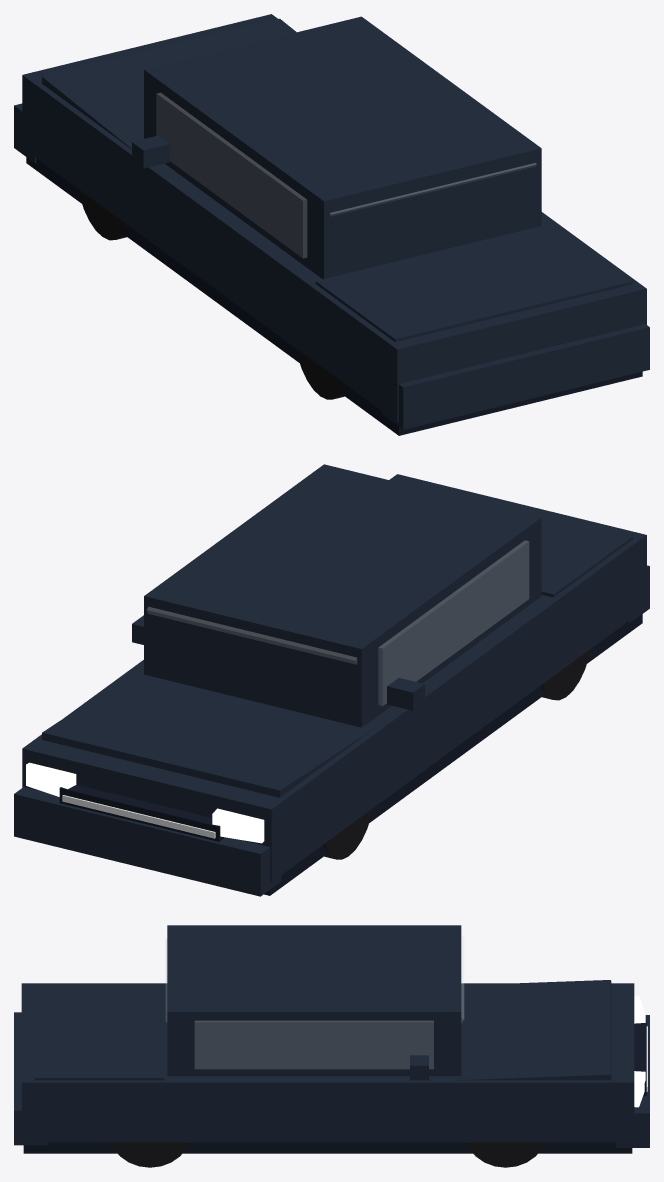
File: gentra.glb
3 views of the same model, one above another, from view 1: azimuth 30°, elevation 25°; view 2: azimuth 150°, elevation 25°; view 3: azimuth 270°, elevation 25° (orthographic). The views are drawn at different scales.
Parts seen in each view (by area): view 1: body_cabin, body, body_trunk, bumper_back, glass (×2), body_hood, object 1, car-wheel.Ft.L, car-wheel.Bk.L, object 18; view 2: body_cabin, body, body_hood, bumper_front, glass (×2), body_trunk, object 1, object 4, headlight.L, object 5, headlight.R, car-wheel.Bk.L (+2 smaller); view 3: body_cabin, body, body_hood, body_trunk, glass, object 1, car-wheel.Ft.R, car-wheel.Bk.R, bumper_back, bumper_front, object 4, object 19 (+1 smaller).
Part boxes in pixels (<box>): body_cabin: <box>144,16,541,279</box>; body: <box>22,14,646,422</box>; body_trunk: <box>315,223,632,342</box>; bumper_back: <box>382,324,649,429</box>; glass (×2): <box>156,93,536,257</box>; body_hood: <box>42,18,296,149</box>; object 1: <box>26,157,642,435</box>; car-wheel.Ft.L: <box>78,189,127,240</box>; car-wheel.Bk.L: <box>296,348,344,399</box>; object 18: <box>132,135,169,168</box>; body_cabin: <box>144,464,541,727</box>; body: <box>22,474,646,882</box>; body_hood: <box>42,668,377,797</box>; bumper_front: <box>14,787,281,896</box>; glass (×2): <box>147,540,528,705</box>; body_trunk: <box>392,478,632,597</box>; object 1: <box>264,614,642,895</box>; object 4: <box>59,784,224,841</box>; headlight.L: <box>212,808,264,843</box>; object 5: <box>62,795,215,838</box>; headlight.R: <box>26,762,76,796</box>; car-wheel.Bk.L: <box>541,649,590,700</box>; body_cabin: <box>167,925,461,1076</box>; body: <box>21,983,634,1142</box>; body_hood: <box>450,980,611,1080</box>; body_trunk: <box>34,983,164,1080</box>; glass: <box>195,1021,433,1068</box>; object 1: <box>23,1142,632,1153</box>; car-wheel.Ft.R: <box>466,1142,544,1167</box>; car-wheel.Bk.R: <box>110,1142,189,1167</box>; bumper_back: <box>14,1012,48,1145</box>; bumper_front: <box>615,1015,649,1147</box>; object 4: <box>634,1020,646,1095</box>; object 19: <box>410,1055,428,1080</box>.
Bounding box in the file's own units: 1.94 × 1.21 × 4.65.
